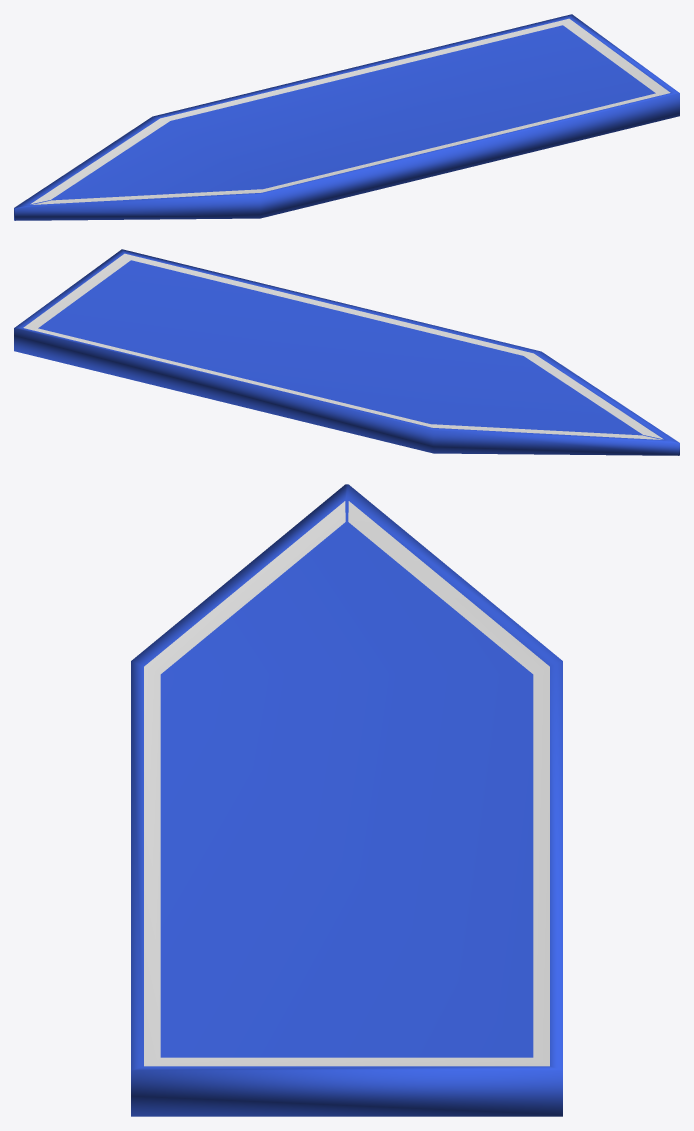
File: VeloArrow.fbx
3 views of the same model, one above another, from view 1: azimuth 30°, elevation 25°; view 2: azimuth 150°, elevation 25°; view 3: azimuth 270°, elevation 25° (orthographic). The views are drawn at different scales.
Visible parts, largest first — view 1: Arrow; view 2: Arrow; view 3: Arrow.
Boxes of the visible parts, x1,y1,x2,y2 form: Arrow: [14, 14, 679, 220]; Arrow: [14, 249, 679, 455]; Arrow: [131, 484, 562, 1116].
Size of the model in its own units: 654 by 23.52 by 200.
